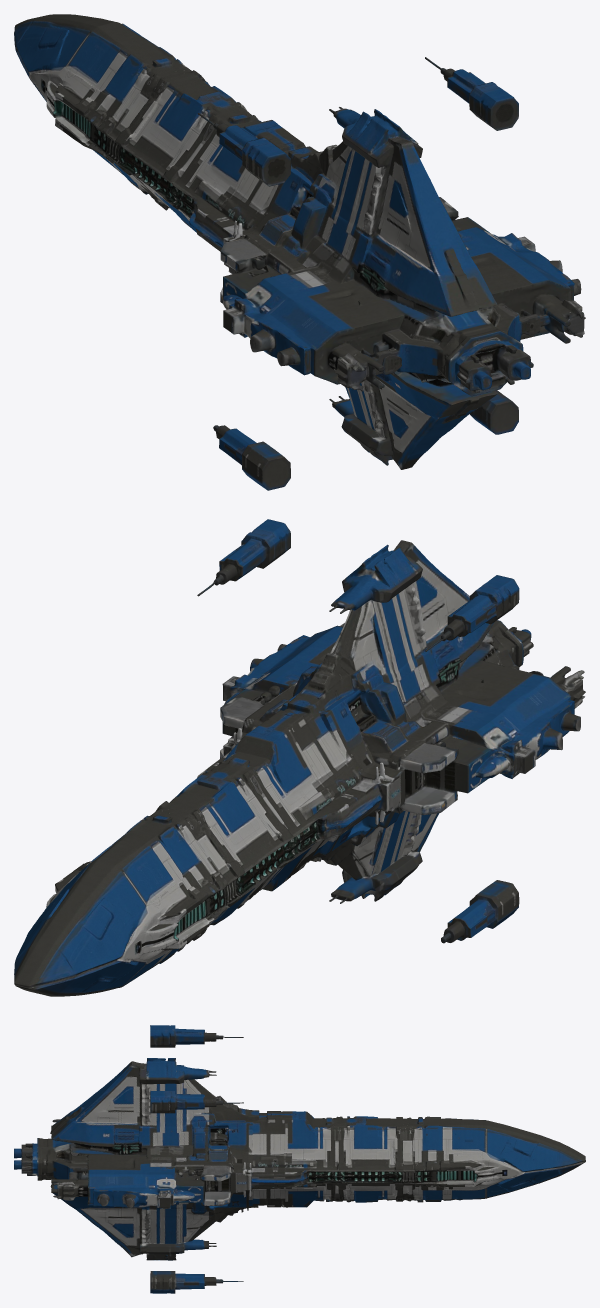
Rendered from ship.glb.
3 views of the same model, one above another, from view 1: azimuth 30°, elevation 25°; view 2: azimuth 150°, elevation 25°; view 3: azimuth 270°, elevation 25° (orthographic). The views are drawn at different scales.
Visible parts, largest first — view 1: tripo_node_526ca385-4970-4a90-87de-0642fa69289d; view 2: tripo_node_526ca385-4970-4a90-87de-0642fa69289d; view 3: tripo_node_526ca385-4970-4a90-87de-0642fa69289d.
Part boxes in pixels (x1,y1,x2,y2): tripo_node_526ca385-4970-4a90-87de-0642fa69289d: [14, 14, 585, 490]; tripo_node_526ca385-4970-4a90-87de-0642fa69289d: [14, 519, 585, 996]; tripo_node_526ca385-4970-4a90-87de-0642fa69289d: [14, 1025, 585, 1293].
Bounding box in the file's own units: 0.3692 × 0.3838 × 0.9995.
Materials: 1 (1 with a texture image).
